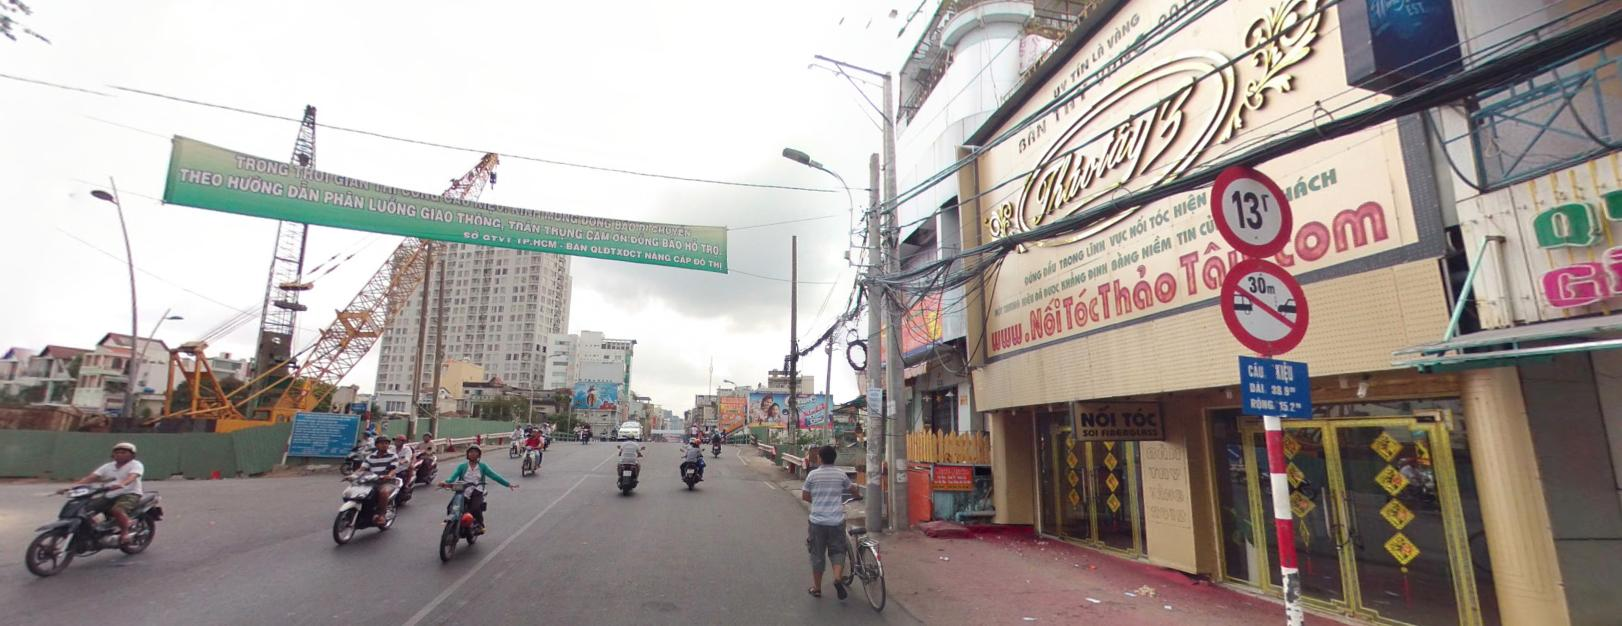Cam con lai: (1223, 261, 1312, 353), (1205, 160, 1290, 255)
